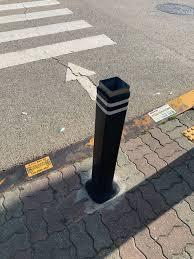Animal: (85, 78, 125, 202)
